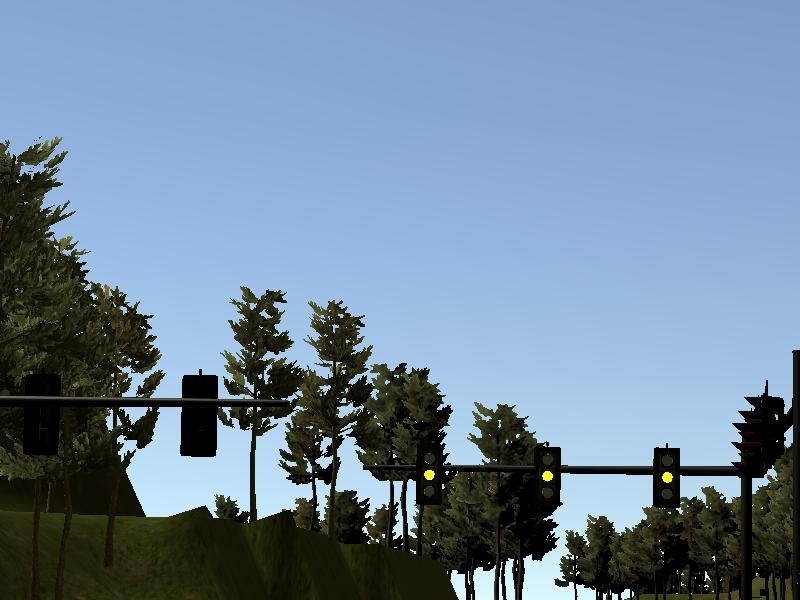yellow: (526, 436, 566, 513), (646, 436, 685, 513), (413, 439, 447, 509)
